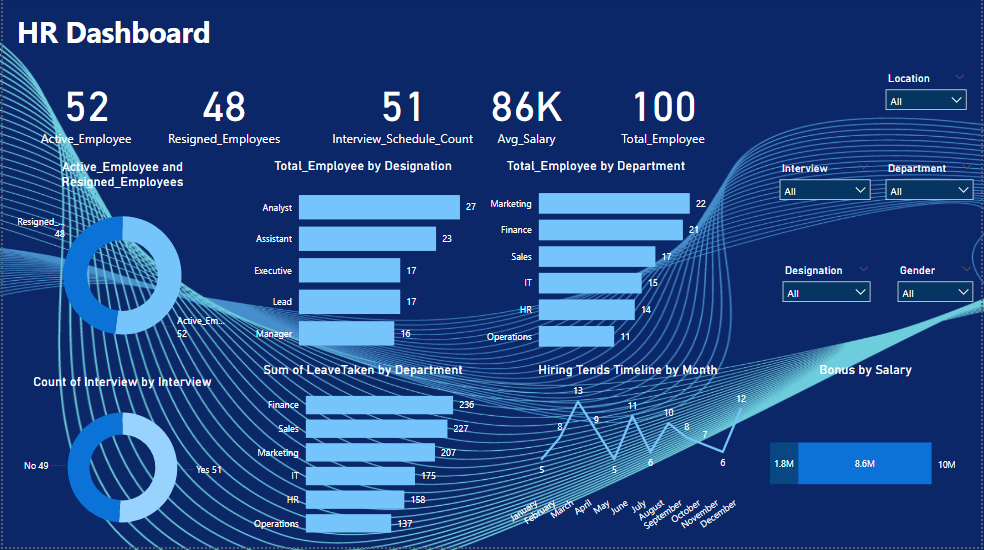

Layout of this report page (visuals, bound fields, positions):
{"tool":"powerbi","page":{"name":"Page 1","canvas":[1280,720],"ordinal":0},"visuals":[{"type":"card","fields":{"Values":["hr.Active_Employee"]},"box":[38,92.9,141.4,108.7],"z":0},{"type":"card","fields":{"Values":["hr.Total_Employee"]},"box":[798.5,92.9,130.9,108.7],"z":1000},{"type":"card","fields":{"Values":["hr.Resigned_Employees"]},"box":[206.8,92.9,164.9,108.7],"z":2000},{"type":"card","fields":{"Values":["hr.Avg_Salary"]},"box":[623.1,92.9,124.4,108.7],"z":3000},{"type":"card","fields":{"Values":["hr.Interview_Schedule_Count"]},"box":[422.8,92.9,200.3,108.7],"z":4000},{"type":"textbox","box":[12.7,15.5,276.6,66.3],"z":5000},{"type":"donutChart","fields":{"Y":["hr.Active_Employee","hr.Resigned_Employees"]},"box":[12.7,211.7,286.5,266.7],"z":6000},{"type":"donutChart","fields":{"Category":["hr.Interview"],"Y":["CountNonNull(hr.Interview)"]},"box":[12.7,493.9,286.5,225.8],"z":7000},{"type":"clusteredBarChart","fields":{"Category":["hr.Department"],"Y":["hr.Total_Employee"]},"box":[623.8,210.3,306.2,266.7],"z":8000},{"type":"clusteredBarChart","fields":{"Category":["hr.Designation"],"Y":["hr.Total_Employee"]},"box":[317.5,210.3,306.2,268.1],"z":9000},{"type":"clusteredBarChart","fields":{"Category":["hr.Department"],"Y":["Sum(hr.LeaveTaken)"]},"box":[317.5,478.4,306.2,241.3],"z":10000},{"type":"slicer","fields":{"Values":["hr.Department"]},"box":[1145.5,210.8,134.8,108.7],"z":11000},{"type":"slicer","fields":{"Values":["hr.Location"]},"box":[1145.5,92.9,125.7,108.7],"z":12000},{"type":"slicer","fields":{"Values":["hr.Gender"]},"box":[1161.2,344.3,119.1,108.7],"z":13000},{"type":"slicer","fields":{"Values":["hr.Designation"]},"box":[1010.6,344.3,134.8,108.7],"z":14000},{"type":"slicer","fields":{"Values":["hr.Interview"]},"box":[1006.7,210.8,138.8,108.7],"z":15000},{"type":"lineChart","title":"Hiring Tends Timeline by Month","fields":{"Category":["hr.DateOfJoining.Variation.Date Hierarchy.Month"],"Y":["hr.Total_Employee"]},"box":[655.9,477.8,324.7,242.2],"z":16000},{"type":"barChart","title":"Bonus by Salary","fields":{"Y":["Sum(hr.Bonus)","Sum(hr.Salary)"]},"box":[998.8,477.8,260.5,242.2],"z":17000}]}

Visuals, with their boxes in screenshot pixels (x1, y1, x2, y2), scaled from the page's 1280x720 canvas onto the 984x550 screenshot:
card - hr.Active_Employee: locate(29, 71, 138, 154)
card - hr.Total_Employee: locate(614, 71, 714, 154)
card - hr.Resigned_Employees: locate(159, 71, 286, 154)
card - hr.Avg_Salary: locate(479, 71, 575, 154)
card - hr.Interview_Schedule_Count: locate(325, 71, 479, 154)
textbox: locate(10, 12, 222, 62)
donutChart - hr.Active_Employee x hr.Resigned_Employees: locate(10, 162, 230, 365)
donutChart - hr.Interview x CountNonNull(hr.Interview): locate(10, 377, 230, 549)
clusteredBarChart - hr.Department x hr.Total_Employee: locate(480, 161, 715, 364)
clusteredBarChart - hr.Designation x hr.Total_Employee: locate(244, 161, 479, 365)
clusteredBarChart - hr.Department x Sum(hr.LeaveTaken): locate(244, 365, 479, 549)
slicer - hr.Department: locate(881, 161, 983, 244)
slicer - hr.Location: locate(881, 71, 977, 154)
slicer - hr.Gender: locate(893, 263, 983, 346)
slicer - hr.Designation: locate(777, 263, 881, 346)
slicer - hr.Interview: locate(774, 161, 881, 244)
"Hiring Tends Timeline by Month" lineChart: locate(504, 365, 754, 549)
"Bonus by Salary" barChart: locate(768, 365, 968, 549)
